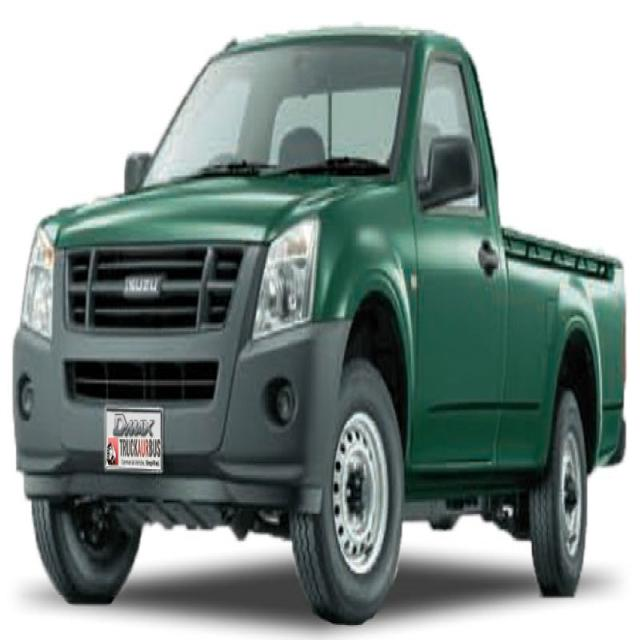truck: (14, 30, 625, 623)
